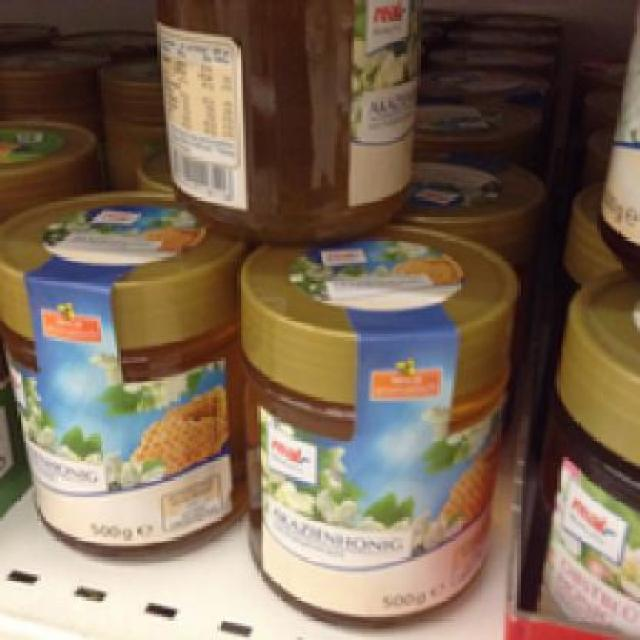Honey: (237, 217, 526, 620), (0, 183, 246, 563), (141, 0, 435, 232)
